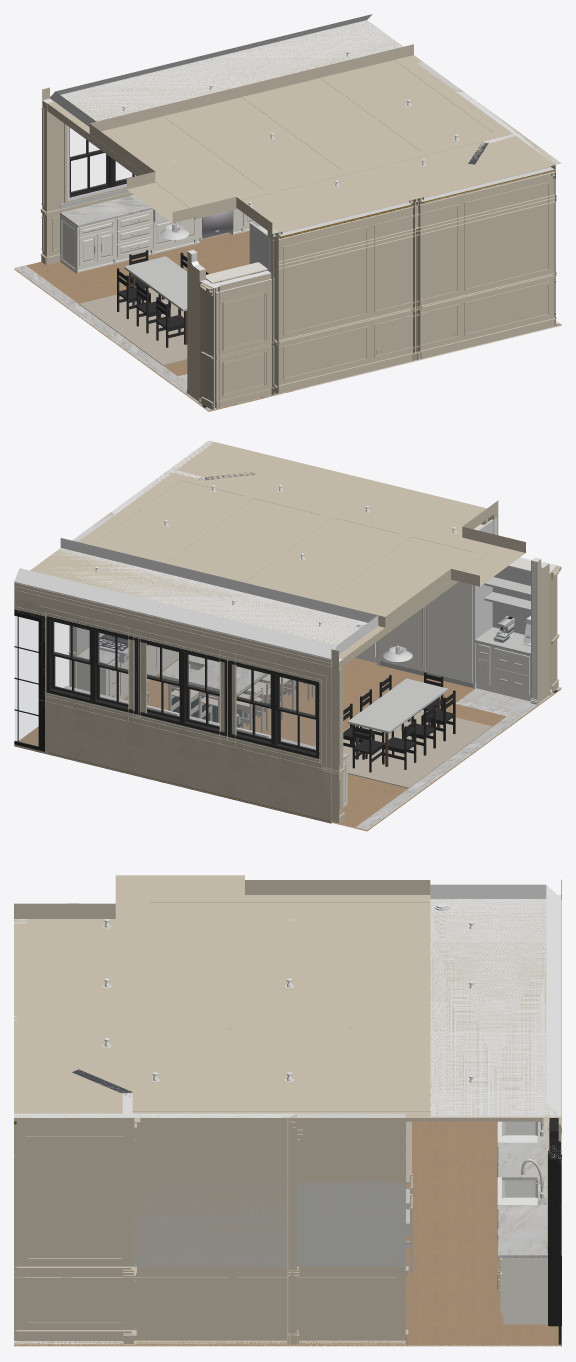
File: kitchen-ca300d7bc917.glb
The picture shows the model from 3 angles, top to bottom: view 1: azimuth 30°, elevation 25°; view 2: azimuth 150°, elevation 25°; view 3: azimuth 270°, elevation 25°; orthographic projection. The views are drawn at different scales.
Parts seen in each view (by area): view 1: kitchen-2575515a05775d9e, kitchen-19647d6da46c2b80, kitchen-9a0e9ee9b2a451d7, kitchen-49bdd6945a2d0056, kitchen-00be813e6aece0ee, kitchen-3b0077416469e01b, kitchen-7dfe2ffe68edc988, kitchen-75351331e76db762, kitchen-09be6e6cfc36f29e, kitchen-bfb9fa537cd11d1d, kitchen-7b4bbba8a9d390c7, kitchen-5f1778ec544bdf42 (+29 smaller); view 2: kitchen-2575515a05775d9e, kitchen-bfb9fa537cd11d1d, kitchen-49bdd6945a2d0056, kitchen-3b0077416469e01b, kitchen-9a0e9ee9b2a451d7, kitchen-09be6e6cfc36f29e, kitchen-7dfe2ffe68edc988, kitchen-9b21a9be80c3a49b, kitchen-465517ab3404164a, kitchen-75351331e76db762, kitchen-576146411195f884, kitchen-32fc8eea516b7cb3 (+29 smaller); view 3: kitchen-2575515a05775d9e, kitchen-5b6bbac285e58726, kitchen-9a0e9ee9b2a451d7, kitchen-3b0077416469e01b, kitchen-49bdd6945a2d0056, kitchen-4554d8252f00ac44, kitchen-6a1144f4e43410bb, kitchen-99336d62df756830, kitchen-515b4f710c0d82a8, kitchen-4b4793188d7158f3, kitchen-47c334bbf0372127, kitchen-e54d813e60c9e7c4 (+21 smaller).
Boxes of the visible parts, x1,y1,x2,y2 form: kitchen-2575515a05775d9e: [89, 44, 560, 233]; kitchen-19647d6da46c2b80: [278, 167, 554, 385]; kitchen-9a0e9ee9b2a451d7: [50, 20, 403, 126]; kitchen-49bdd6945a2d0056: [50, 14, 402, 126]; kitchen-00be813e6aece0ee: [215, 279, 271, 408]; kitchen-3b0077416469e01b: [14, 231, 561, 411]; kitchen-7dfe2ffe68edc988: [117, 250, 221, 347]; kitchen-75351331e76db762: [79, 287, 187, 365]; kitchen-09be6e6cfc36f29e: [67, 126, 135, 201]; kitchen-bfb9fa537cd11d1d: [42, 98, 63, 256]; kitchen-7b4bbba8a9d390c7: [277, 318, 556, 393]; kitchen-5f1778ec544bdf42: [277, 194, 556, 269]; kitchen-2575515a05775d9e: [77, 441, 525, 627]; kitchen-bfb9fa537cd11d1d: [14, 583, 343, 821]; kitchen-49bdd6945a2d0056: [14, 538, 378, 659]; kitchen-3b0077416469e01b: [14, 658, 561, 831]; kitchen-9a0e9ee9b2a451d7: [14, 548, 378, 659]; kitchen-09be6e6cfc36f29e: [228, 660, 319, 758]; kitchen-7dfe2ffe68edc988: [343, 672, 455, 772]; kitchen-9b21a9be80c3a49b: [46, 616, 137, 714]; kitchen-465517ab3404164a: [136, 637, 227, 736]; kitchen-75351331e76db762: [343, 709, 492, 788]; kitchen-576146411195f884: [14, 609, 44, 751]; kitchen-32fc8eea516b7cb3: [426, 581, 472, 683]; kitchen-2575515a05775d9e: [14, 875, 430, 1117]; kitchen-5b6bbac285e58726: [134, 1113, 296, 1344]; kitchen-9a0e9ee9b2a451d7: [430, 899, 560, 1117]; kitchen-3b0077416469e01b: [14, 1121, 561, 1346]; kitchen-49bdd6945a2d0056: [430, 884, 561, 1116]; kitchen-4554d8252f00ac44: [133, 1182, 405, 1270]; kitchen-6a1144f4e43410bb: [14, 1113, 134, 1344]; kitchen-99336d62df756830: [297, 1113, 405, 1344]; kitchen-515b4f710c0d82a8: [27, 1121, 122, 1329]; kitchen-4b4793188d7158f3: [498, 1121, 547, 1257]; kitchen-47c334bbf0372127: [132, 895, 149, 1111]; kitchen-e54d813e60c9e7c4: [14, 1124, 405, 1133].
Size of the model in its own units: 6.87 by 3.24 by 6.56.
53 materials, 10 textured.
